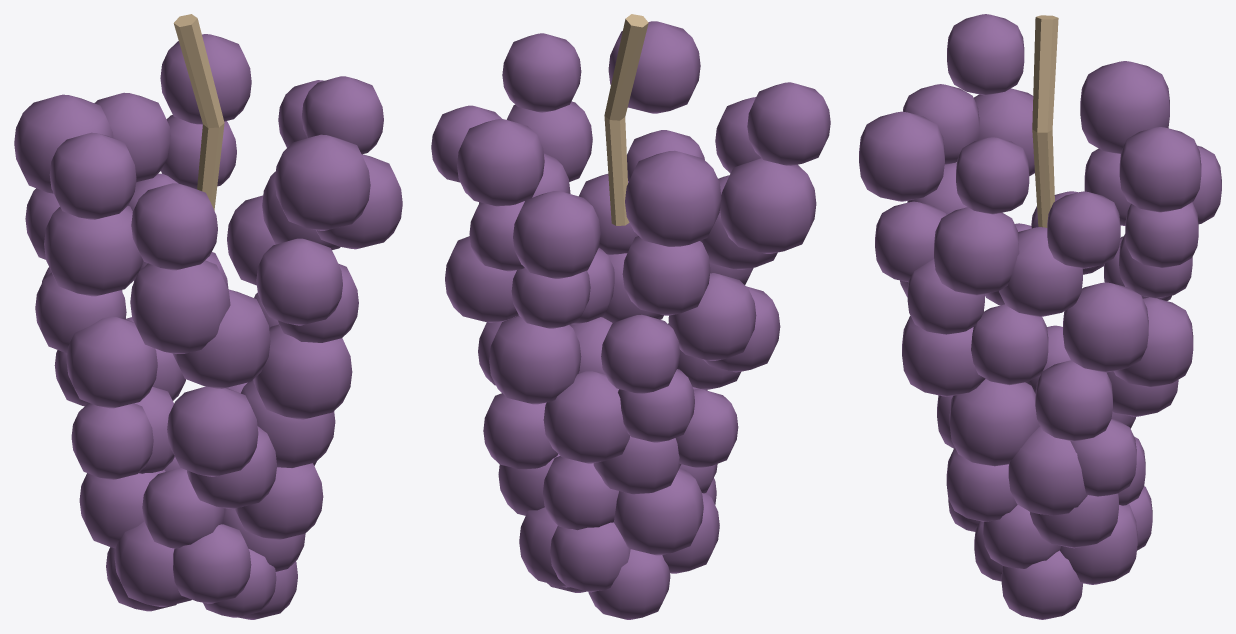
File: fresh-produce-and-groceries-grapes-red-bunch-0809b696__24325.glb
3 renders of one model, left to right at view 1: azimuth 30°, elevation 25°; view 2: azimuth 150°, elevation 25°; view 3: azimuth 270°, elevation 25°, orthographic. The views are drawn at different scales.
Parts seen in each view (by area): view 1: grapes-red-bunch; view 2: grapes-red-bunch; view 3: grapes-red-bunch.
Boxes of the visible parts, x1,y1,x2,y2 form: grapes-red-bunch: [14, 14, 402, 619]; grapes-red-bunch: [431, 14, 830, 619]; grapes-red-bunch: [859, 14, 1221, 619].
Bounding box in the file's own units: 0.0824 × 0.137 × 0.0786.
